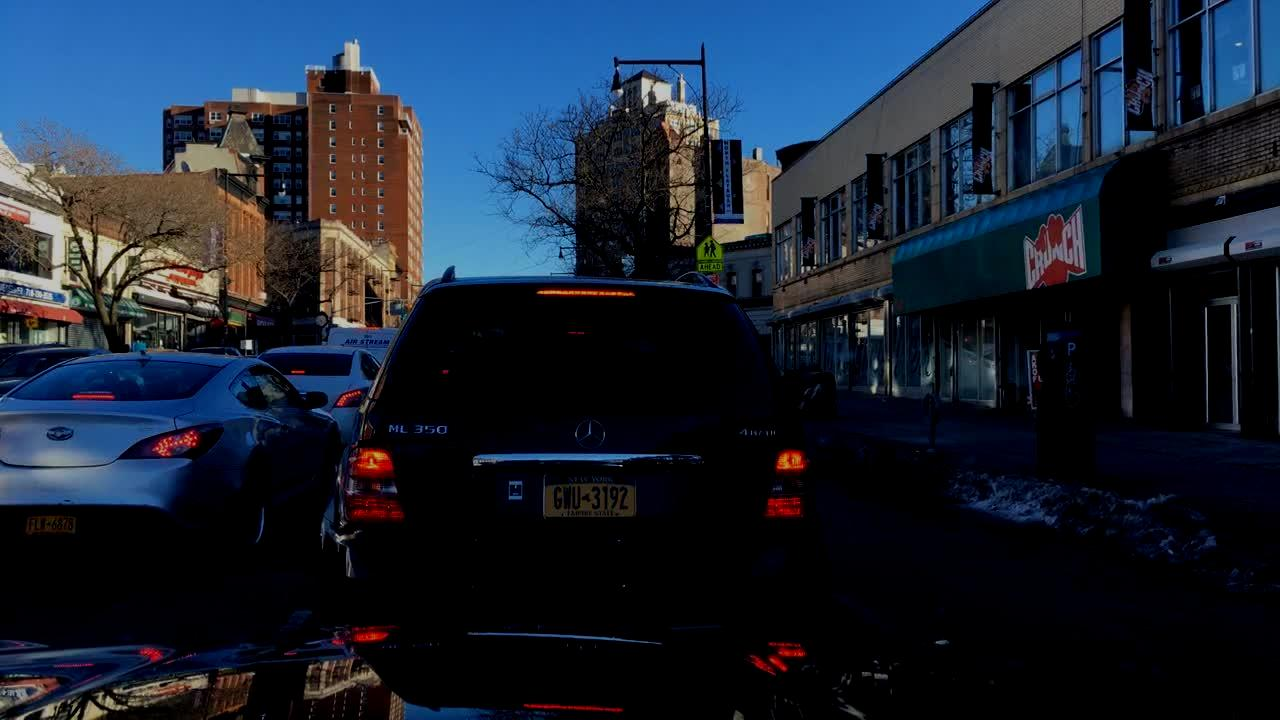Mercedes: (574, 415, 612, 452)
